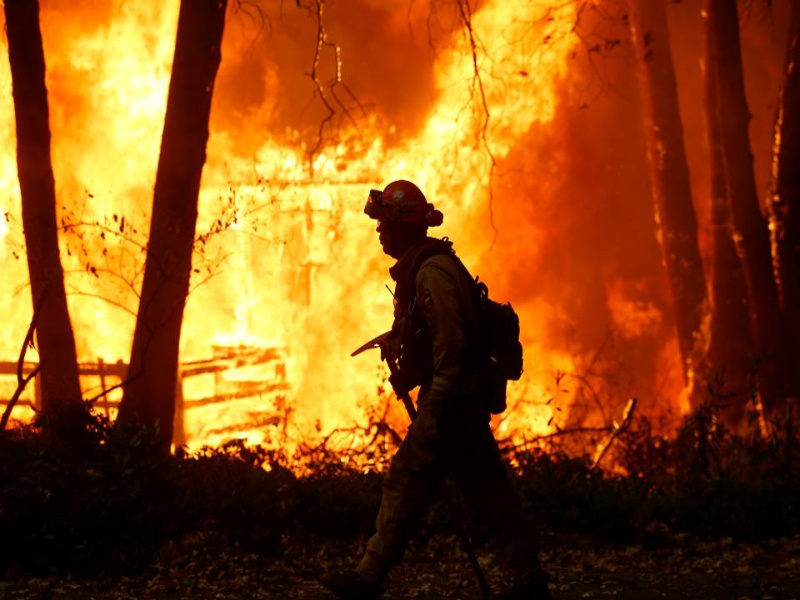fire: (1, 1, 588, 423)
